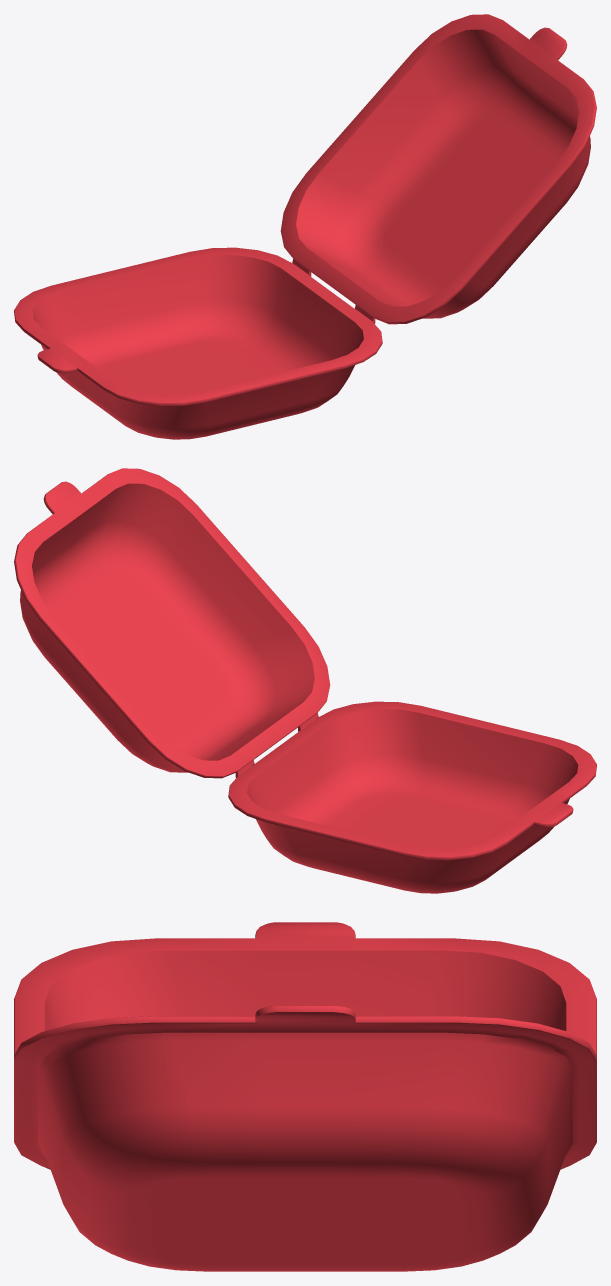
Rendered from burger_cup_revised.fbx.
3 renders of one model, top to bottom at view 1: azimuth 30°, elevation 25°; view 2: azimuth 150°, elevation 25°; view 3: azimuth 270°, elevation 25°, orthographic. The views are drawn at different scales.
Parts seen in each view (by area): view 1: kap; view 2: kap; view 3: kap.
Boxes of the visible parts, box(x1,y1,x2,y2) form: kap: box(14, 14, 596, 439); kap: box(14, 468, 596, 893); kap: box(14, 922, 596, 1271).
Size of the model in its own units: 454 by 227 by 238.
